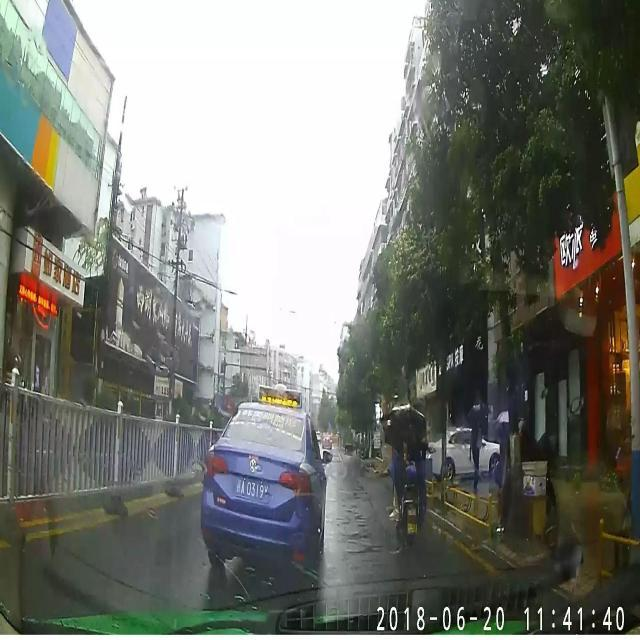car: (200, 399, 332, 579), (426, 430, 504, 478)
